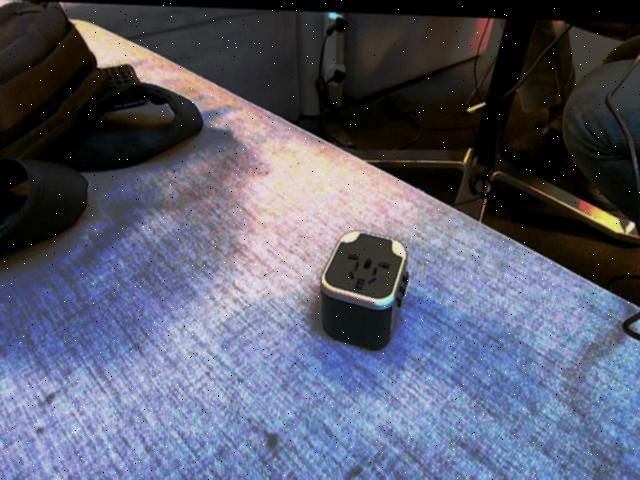adapter: (318, 225, 409, 348)
